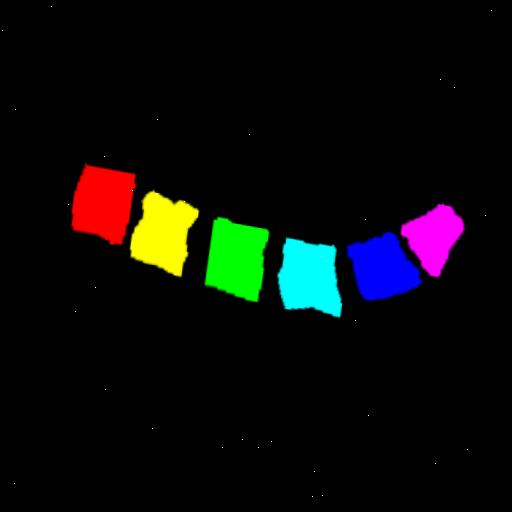L1: (76, 162, 137, 241)
L2: (135, 188, 200, 272)
L3: (208, 214, 270, 296)
L4: (282, 231, 345, 309)
L5: (349, 224, 422, 291)
S1: (403, 194, 466, 267)
